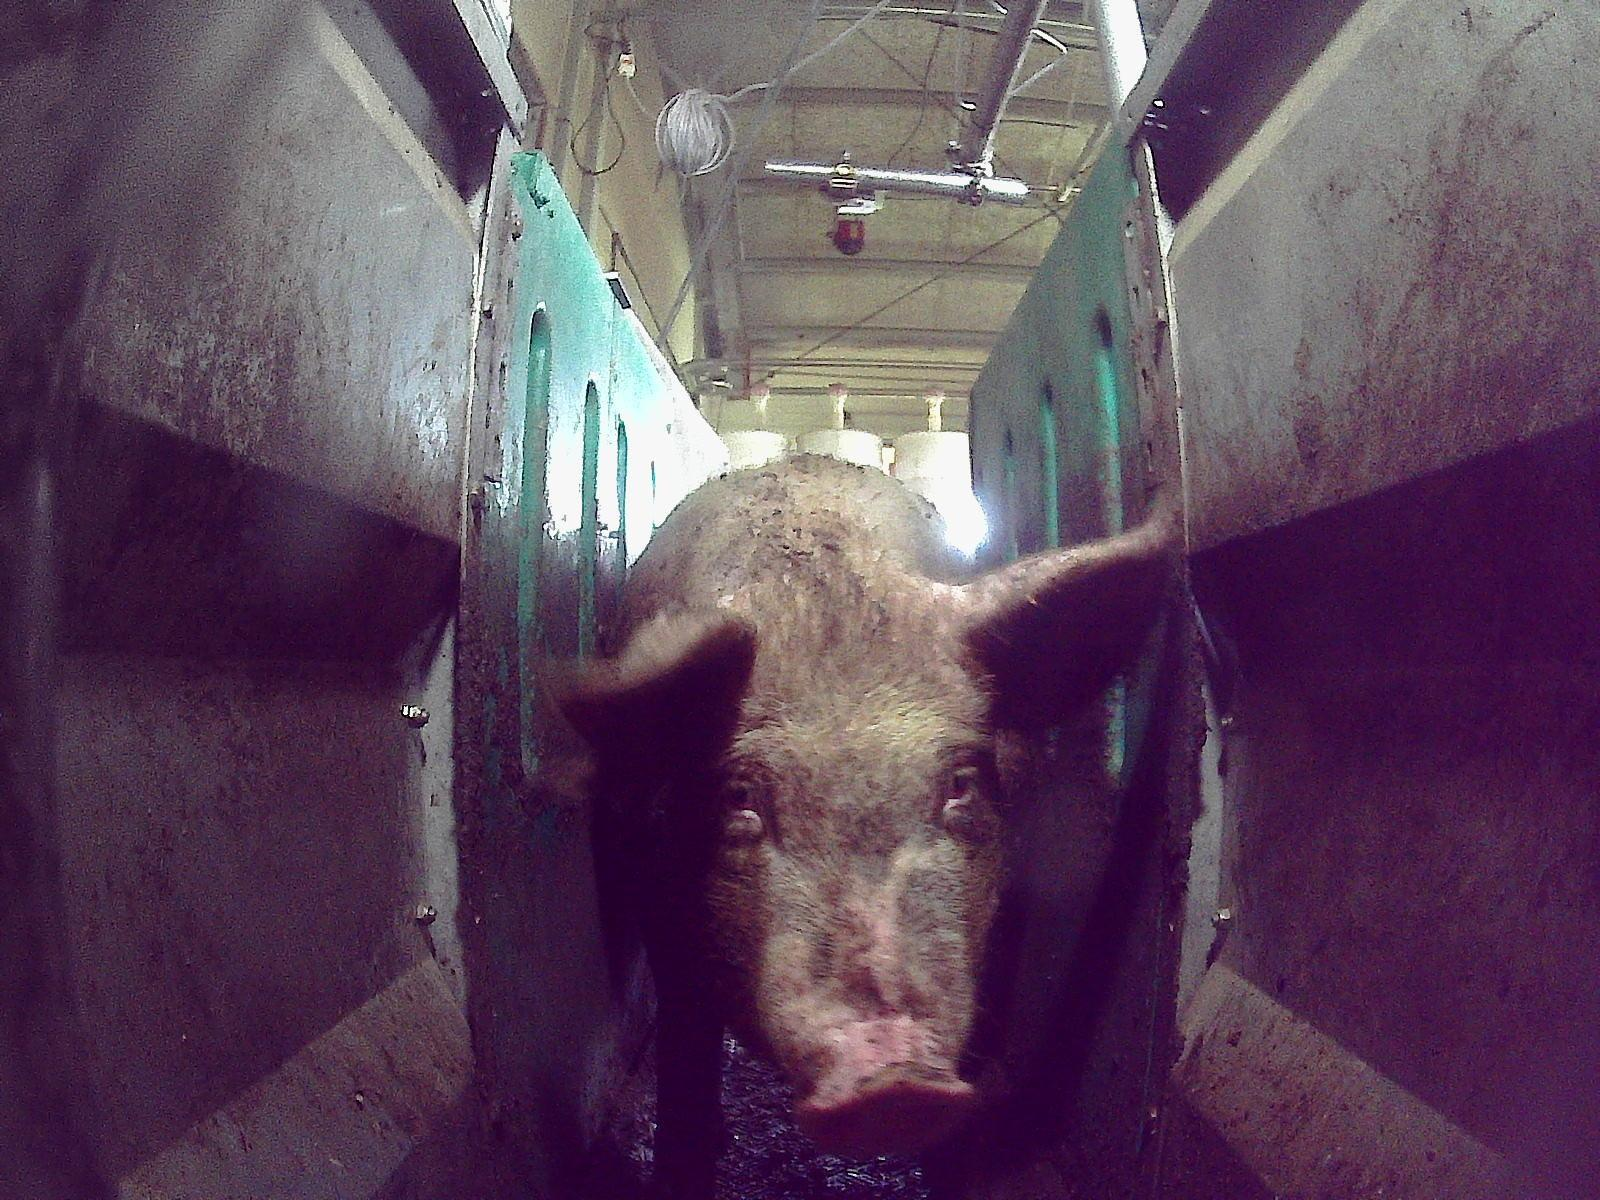Face: (664, 561, 1006, 1157)
